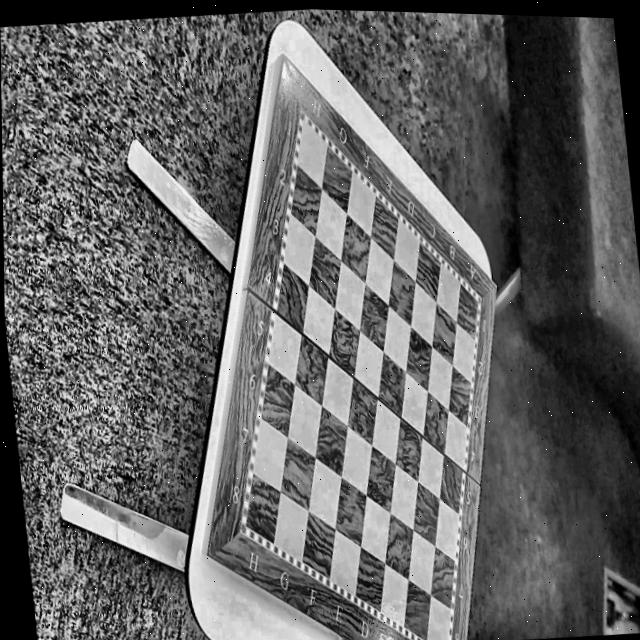chessboard: (246, 119, 478, 640)
